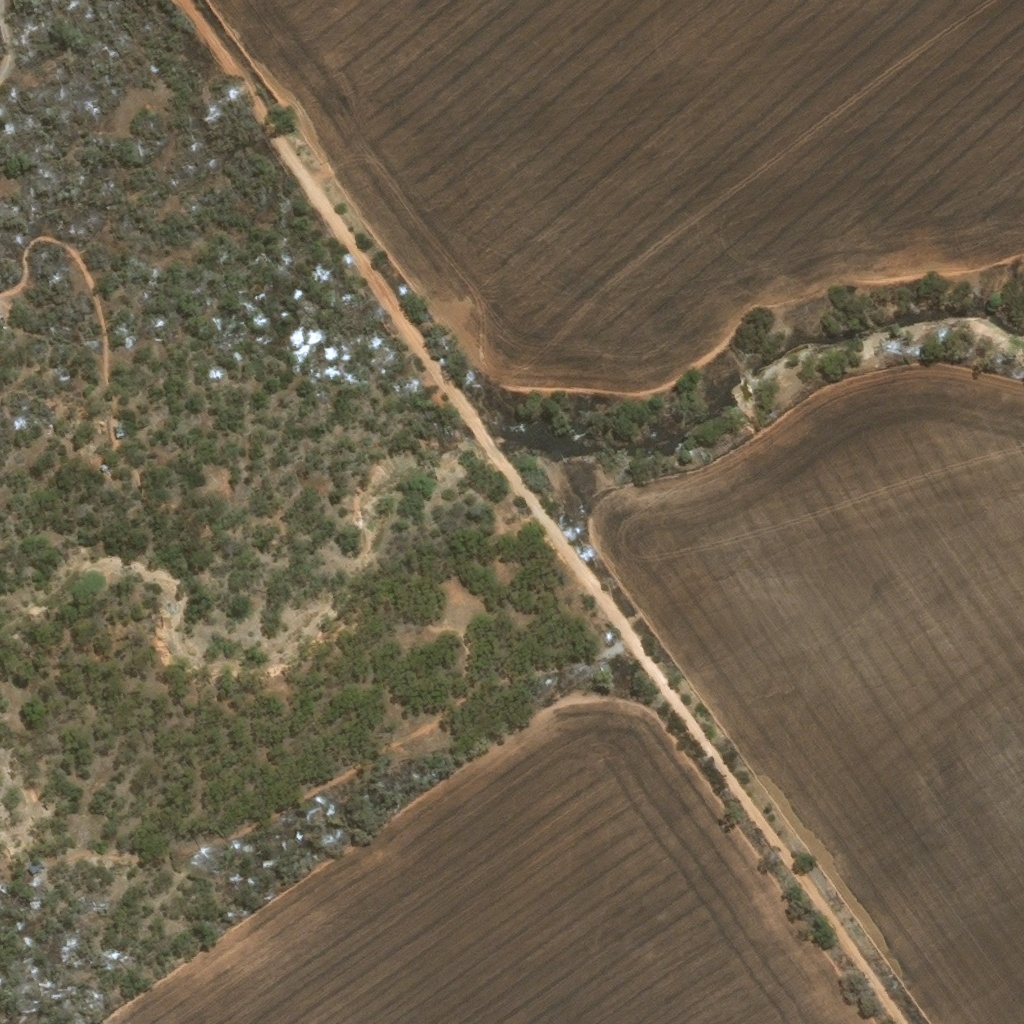0 no-damage: (21, 854, 44, 877), (99, 463, 107, 471)
